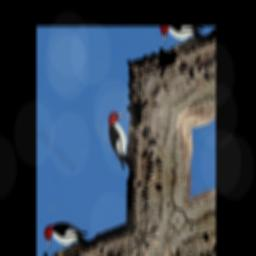Woodpecker: (89, 97, 152, 180)
